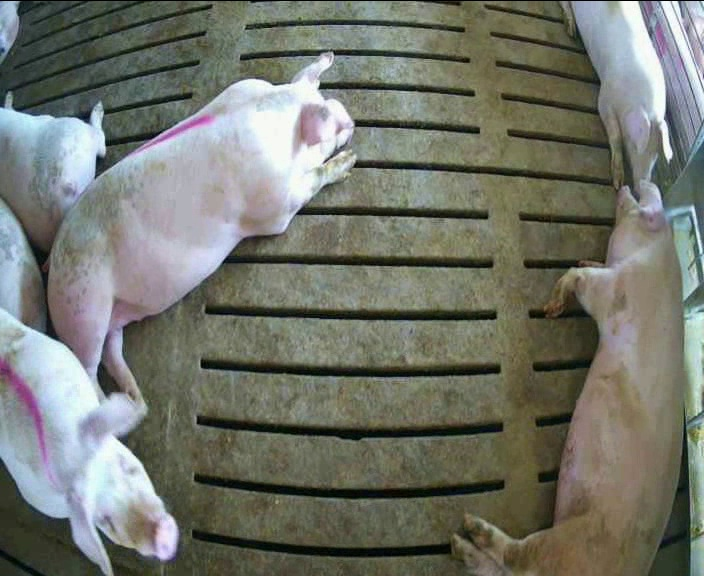pig: (49, 53, 355, 401), (452, 183, 683, 573), (557, 1, 672, 192), (0, 92, 104, 250)
